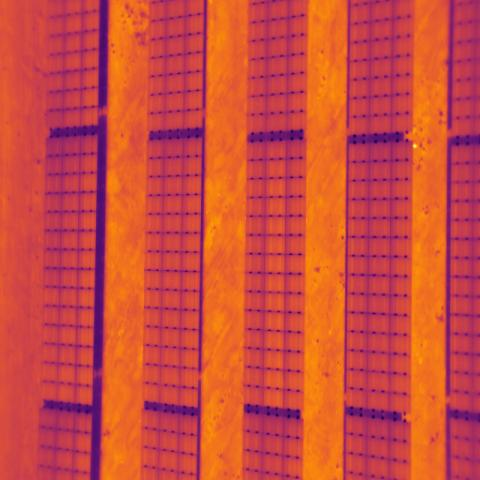fault: (263, 142, 286, 408)
